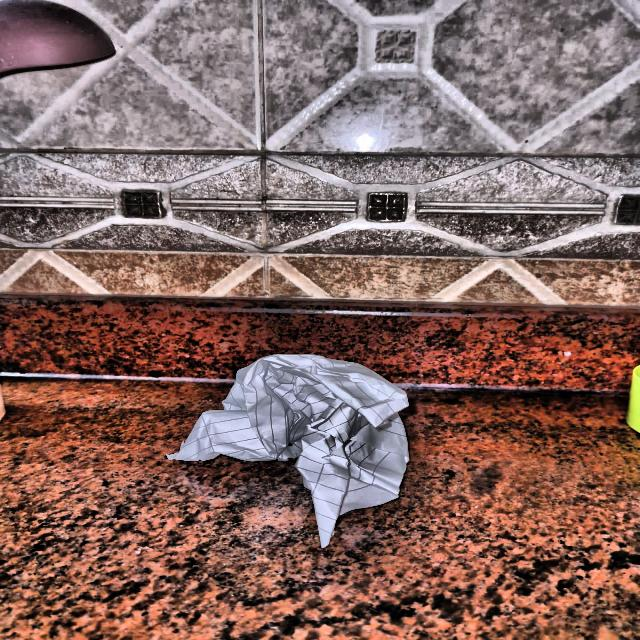Paper: (173, 346, 434, 532)
